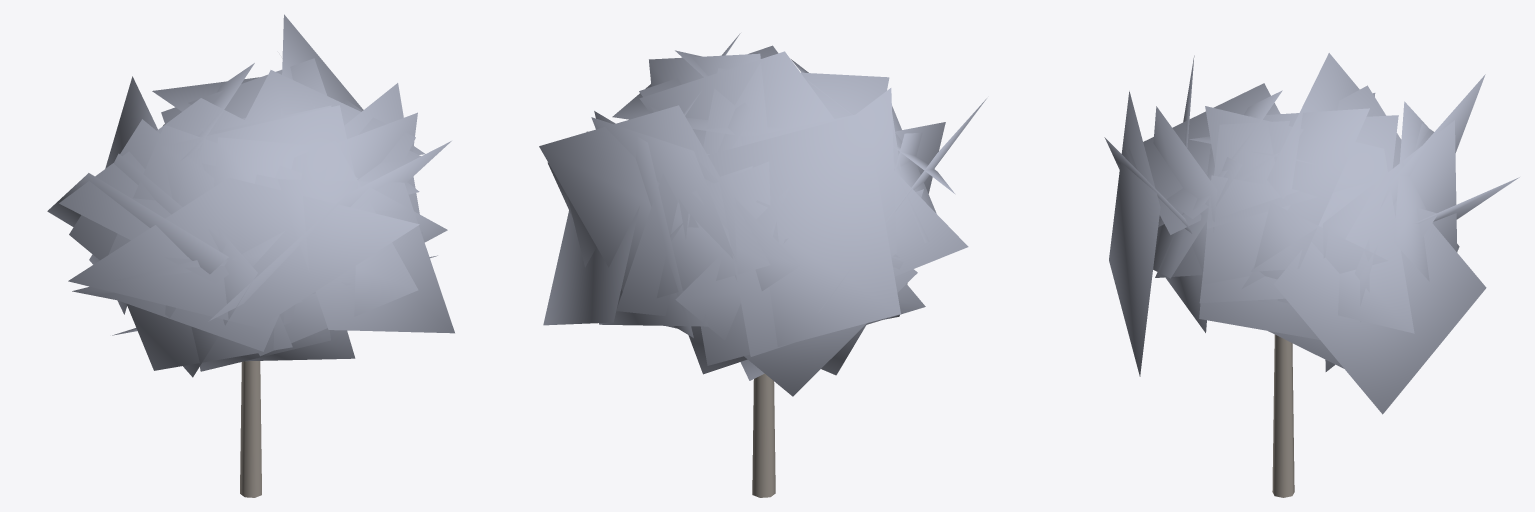
File: jungletree2.glb
3 renders of one model, left to right at view 1: azimuth 30°, elevation 25°; view 2: azimuth 150°, elevation 25°; view 3: azimuth 270°, elevation 25°, orthographic. The views are drawn at different scales.
Visible parts, largest first — view 1: leaves, bark; view 2: leaves, bark; view 3: leaves, bark.
Part boxes in pixels (bbox=[...]): leaves: bbox=[47, 14, 454, 377]; bark: bbox=[240, 361, 261, 497]; leaves: bbox=[539, 33, 986, 396]; bark: bbox=[752, 373, 775, 497]; leaves: bbox=[1104, 53, 1519, 414]; bark: bbox=[1272, 334, 1294, 497].
Bounding box in the file's own units: 19.6 × 19.31 × 18.3.
